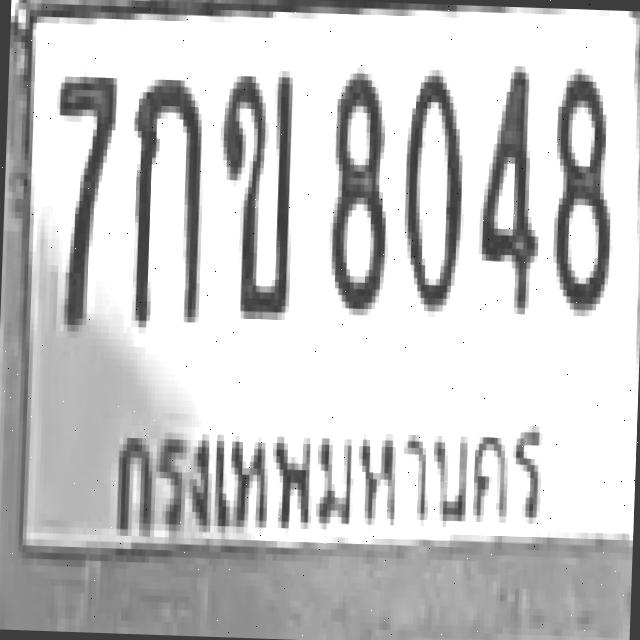0: (398, 59, 462, 308)
10GorGai: (124, 69, 204, 318)
11KhorKhai: (214, 62, 294, 312)
4: (472, 58, 541, 308)
7: (48, 66, 113, 322)
8: (545, 61, 614, 310), (323, 62, 391, 306)
Bangkok: (99, 378, 554, 562)
